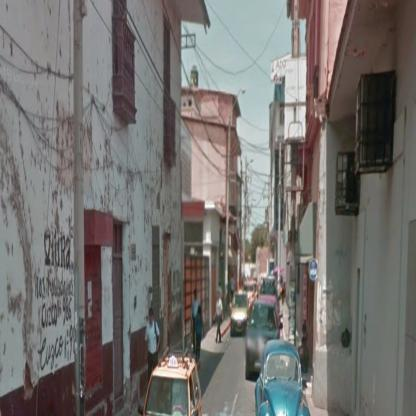Peaton: (145, 308, 161, 385), (213, 291, 225, 342), (196, 306, 206, 360)
Vehiculo: (139, 345, 203, 416), (256, 338, 312, 415), (246, 302, 280, 383), (231, 291, 250, 338)
